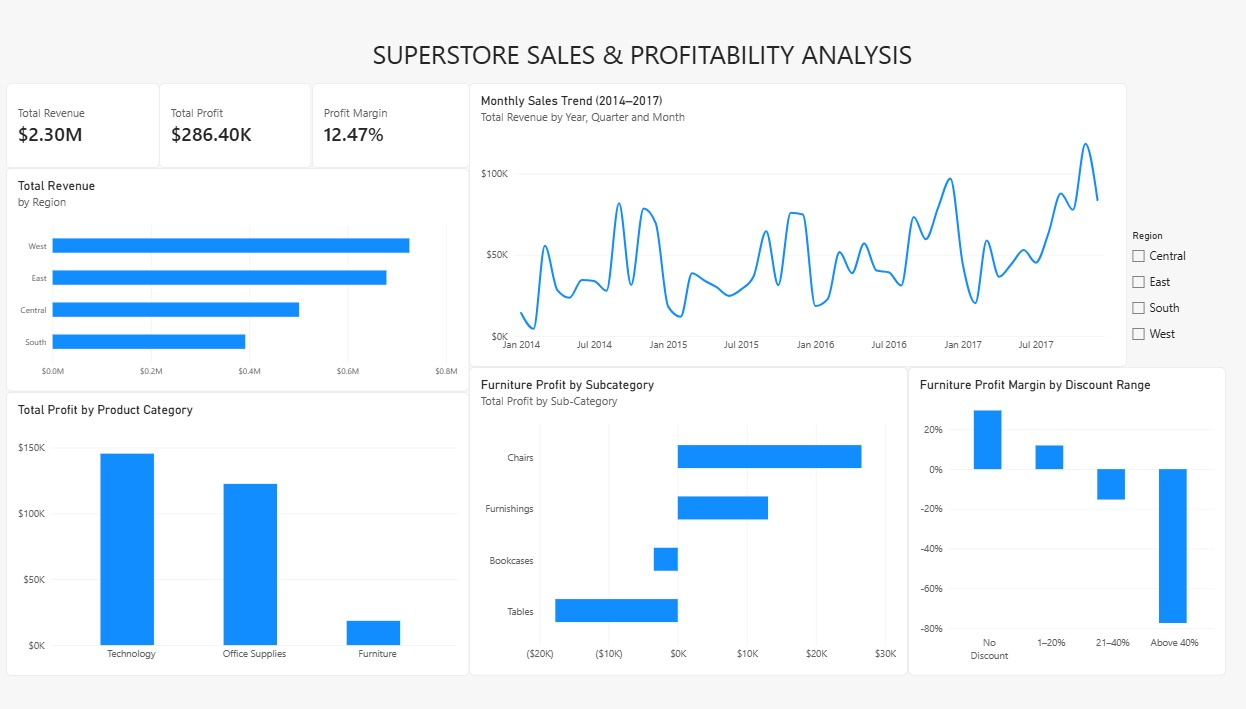

Layout of this report page (visuals, bound fields, positions):
{"tool":"powerbi","page":{"name":"Page 1","canvas":[1920,1080],"ordinal":0},"visuals":[{"type":"cardVisual","fields":{"Data":["Superstore.Total Revenue"]},"box":[10,126,224,124],"z":0},{"type":"cardVisual","fields":{"Data":["Superstore.Total Profit"]},"box":[234,126,222,124],"z":1000},{"type":"cardVisual","fields":{"Data":["Superstore.Profit Margin"]},"box":[456,126,230,124],"z":2000},{"type":"clusteredBarChart","fields":{"Category":["Superstore.Region"],"Y":["Superstore.Total Revenue"]},"box":[10,250,676,326],"z":3000},{"type":"lineChart","title":"Monthly Sales Trend (2014–2017)","fields":{"Category":["Superstore.Order Date.Variation.Date Hierarchy.Year","Superstore.Order Date.Variation.Date Hierarchy.Quarter","Superstore.Order Date.Variation.Date Hierarchy.Month","Superstore.Order Date.Variation.Date Hierarchy.Day"],"Y":["Superstore.Total Revenue"]},"box":[685.7,125.7,960,414.3],"z":4000},{"type":"clusteredColumnChart","title":"Total Profit by Product Category","fields":{"Category":["Superstore.Category"],"Y":["Superstore.Total Profit"]},"box":[10,575.7,675.7,414.3],"z":4001},{"type":"clusteredBarChart","title":"Furniture Profit by Subcategory","fields":{"Category":["Superstore.Sub-Category"],"Y":["Superstore.Total Profit"]},"box":[685.7,540,640,450],"z":4002},{"type":"clusteredColumnChart","title":"Furniture Profit Margin by Discount Range","fields":{"Category":["Superstore.Discount Range"],"Y":["Superstore.Profit Margin"]},"box":[1325.7,540,464.3,450],"z":4003},{"type":"textbox","box":[322,58,1232,68],"z":4006},{"type":"slicer","fields":{"Values":["Superstore.Region"]},"box":[1645,340,145,200],"z":4008}]}

Visuals, with their boxes in screenshot pixels (x1, y1, x2, y2), scaled from the page's 1920x1080 canvas onto the 1246x709 screenshot:
cardVisual - Superstore.Total Revenue: {"left": 6, "top": 83, "right": 152, "bottom": 164}
cardVisual - Superstore.Total Profit: {"left": 152, "top": 83, "right": 296, "bottom": 164}
cardVisual - Superstore.Profit Margin: {"left": 296, "top": 83, "right": 445, "bottom": 164}
clusteredBarChart - Superstore.Region x Superstore.Total Revenue: {"left": 6, "top": 164, "right": 445, "bottom": 378}
"Monthly Sales Trend (2014–2017)" lineChart: {"left": 445, "top": 83, "right": 1068, "bottom": 354}
"Total Profit by Product Category" clusteredColumnChart: {"left": 6, "top": 378, "right": 445, "bottom": 650}
"Furniture Profit by Subcategory" clusteredBarChart: {"left": 445, "top": 354, "right": 860, "bottom": 650}
"Furniture Profit Margin by Discount Range" clusteredColumnChart: {"left": 860, "top": 354, "right": 1162, "bottom": 650}
textbox: {"left": 209, "top": 38, "right": 1008, "bottom": 83}
slicer - Superstore.Region: {"left": 1068, "top": 223, "right": 1162, "bottom": 354}
